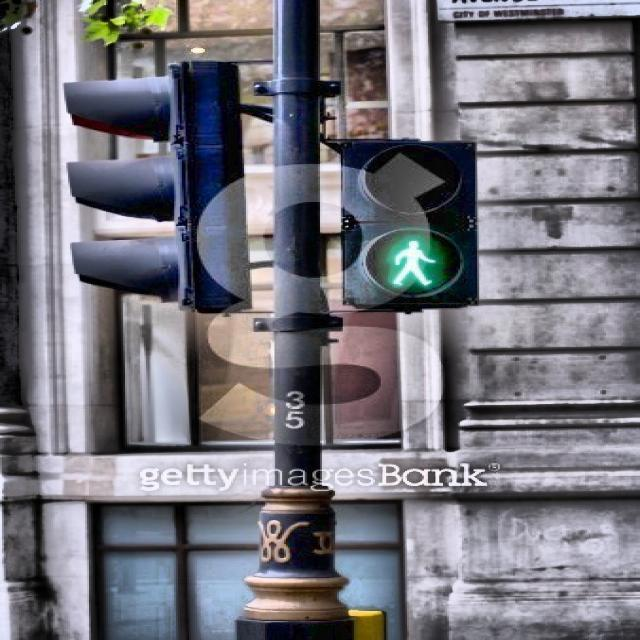green_light: (387, 235, 437, 288)
